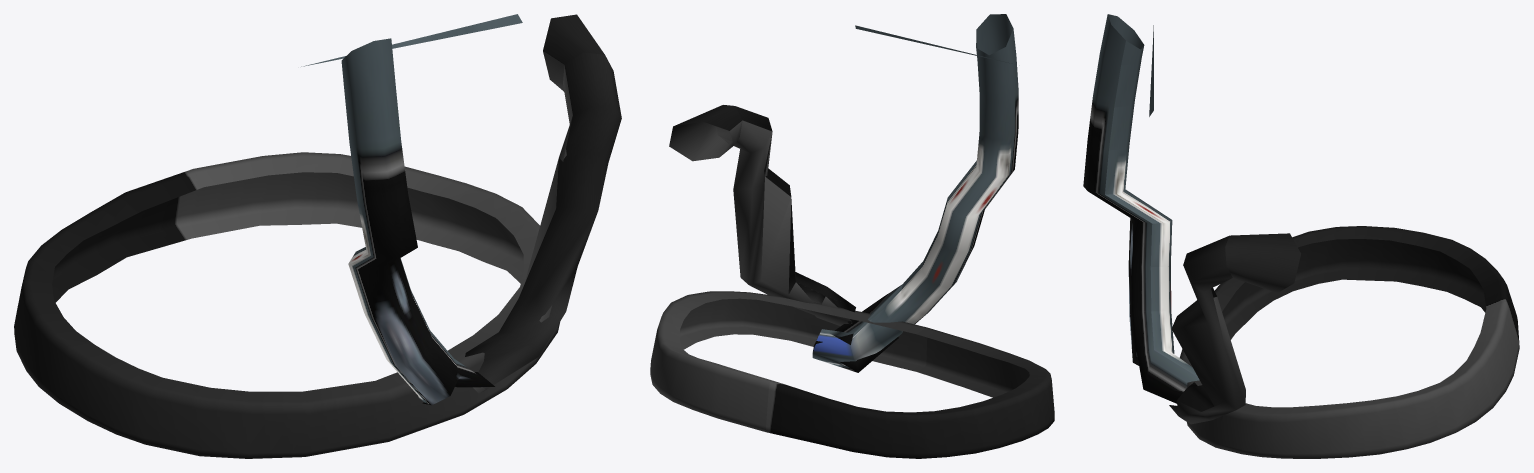
Rendered from tubos.fbx.
3 renders of one model, left to right at view 1: azimuth 30°, elevation 25°; view 2: azimuth 150°, elevation 25°; view 3: azimuth 270°, elevation 25°, orthographic. The views are drawn at different scales.
Visible parts, largest first — view 1: tubos; view 2: tubos; view 3: tubos.
Part boxes in pixels (left/top/right/bottom): tubos: left=14, top=14, right=621, bottom=458; tubos: left=650, top=14, right=1054, bottom=458; tubos: left=1083, top=14, right=1519, bottom=458.
Bounding box in the file's own units: 21.91 × 18.04 × 19.75.
